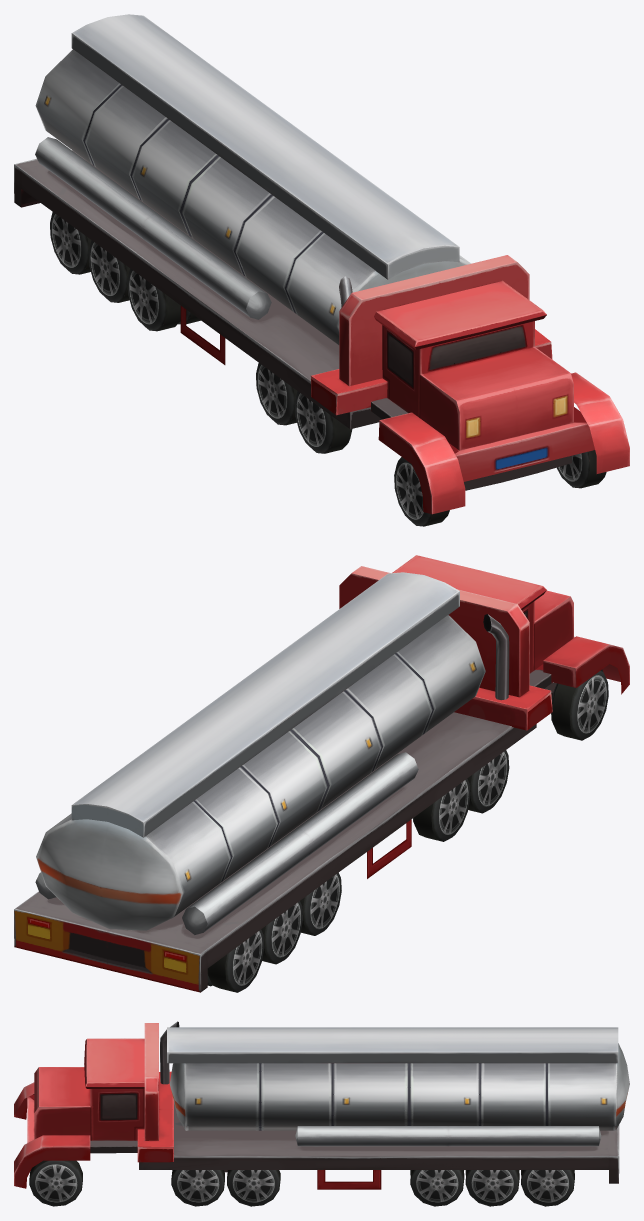
File: model_Mcar9.FBX
3 views of the same model, one above another, from view 1: azimuth 30°, elevation 25°; view 2: azimuth 150°, elevation 25°; view 3: azimuth 270°, elevation 25° (orthographic). The views are drawn at different scales.
Parts seen in each view (by area): view 1: Object010; view 2: Object010; view 3: Object010.
Boxes of the visible parts, <box> form: Object010: <box>14,14,629,526</box>; Object010: <box>14,555,629,992</box>; Object010: <box>14,1021,629,1206</box>.
Bounding box in the file's own units: 352 × 308 × 1215.
